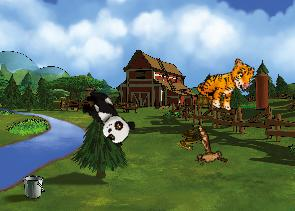eagle: (178, 121, 237, 177)
panda: (74, 85, 139, 149)
tiger: (193, 48, 258, 117)
